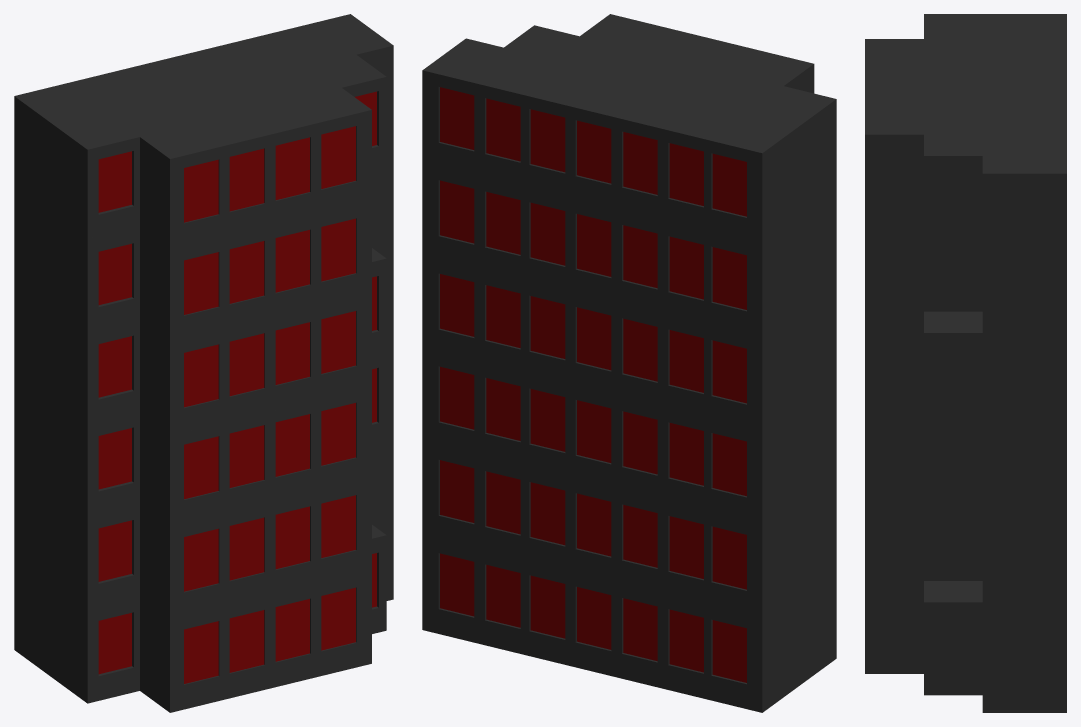
The model's file is house_D.FBX.
3 views of the same model, side by side, from view 1: azimuth 30°, elevation 25°; view 2: azimuth 150°, elevation 25°; view 3: azimuth 270°, elevation 25° (orthographic). The views are drawn at different scales.
Visible parts, largest first — view 1: glass; view 2: glass; view 3: glass.
Boxes of the visible parts, bbox=[...] form: glass: bbox=[14, 14, 393, 712]; glass: bbox=[422, 14, 836, 712]; glass: bbox=[865, 14, 1066, 712].
Bounding box in the file's own units: 14.12 × 22.21 × 7.53.
